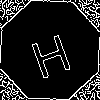H: (25, 25, 74, 80)
